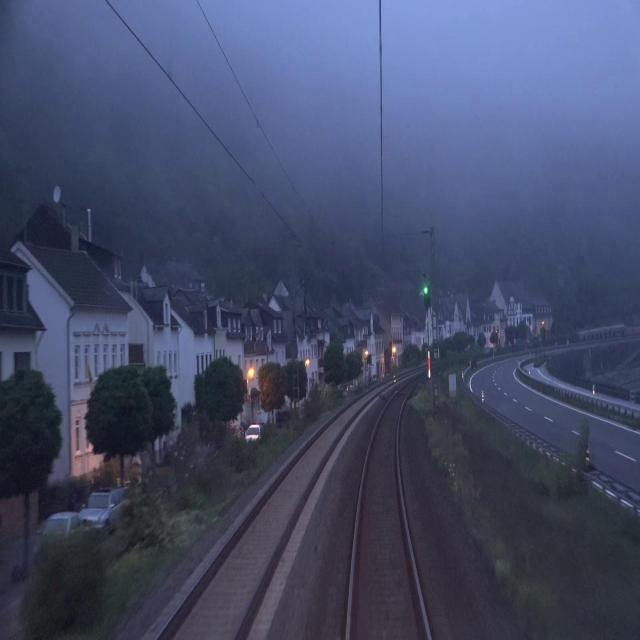rail-track: (161, 391, 373, 639), (349, 382, 426, 639)
